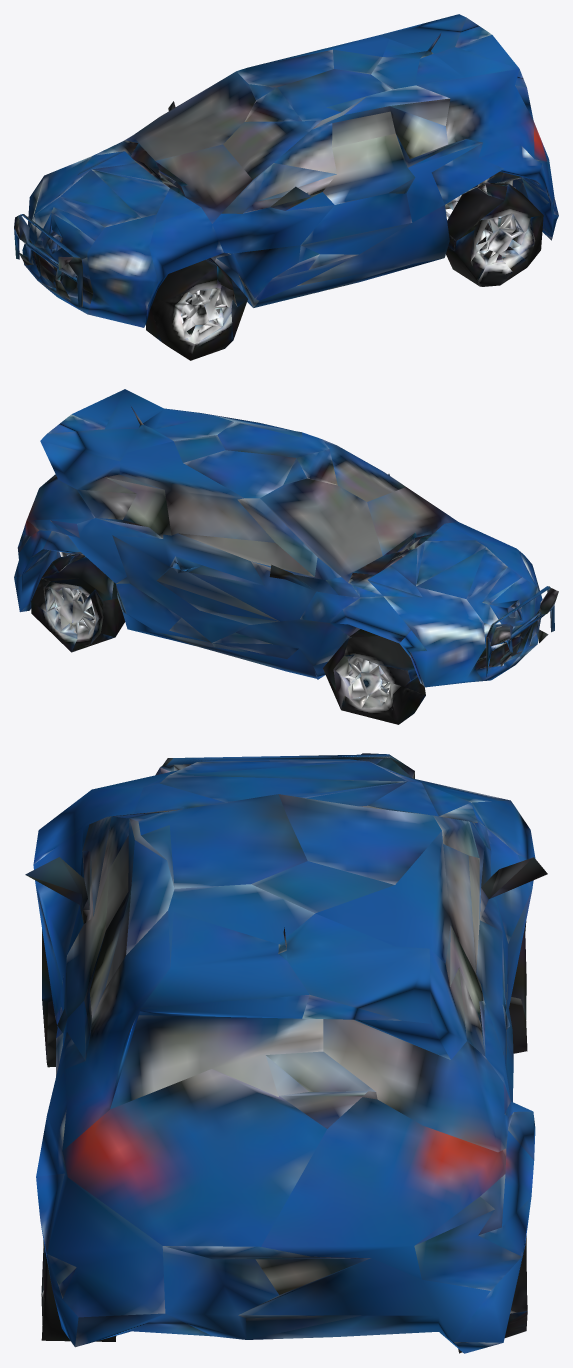
Rendered from car_grip_far.glb.
The picture shows the model from 3 angles, top to bottom: view 1: azimuth 30°, elevation 25°; view 2: azimuth 150°, elevation 25°; view 3: azimuth 270°, elevation 25°; orthographic projection. The views are drawn at different scales.
Bounding box in the file's own units: 1.89 × 0.7909 × 0.8949.
Materials: 1 (1 with a texture image).
